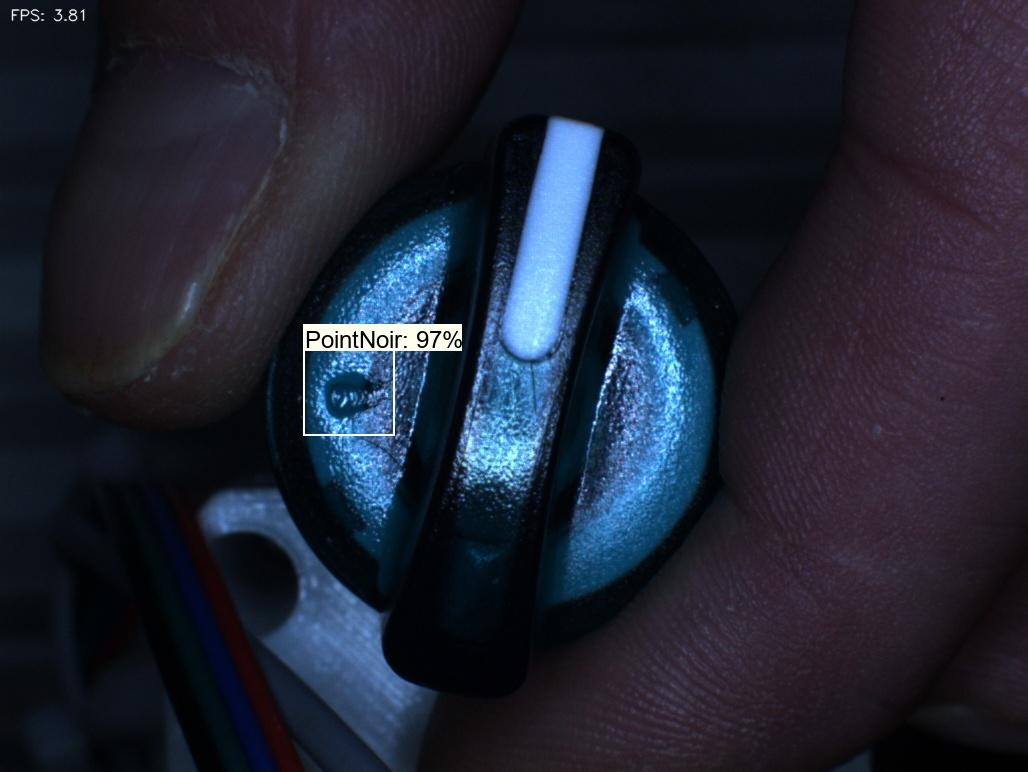Choc: (288, 349, 402, 447)
